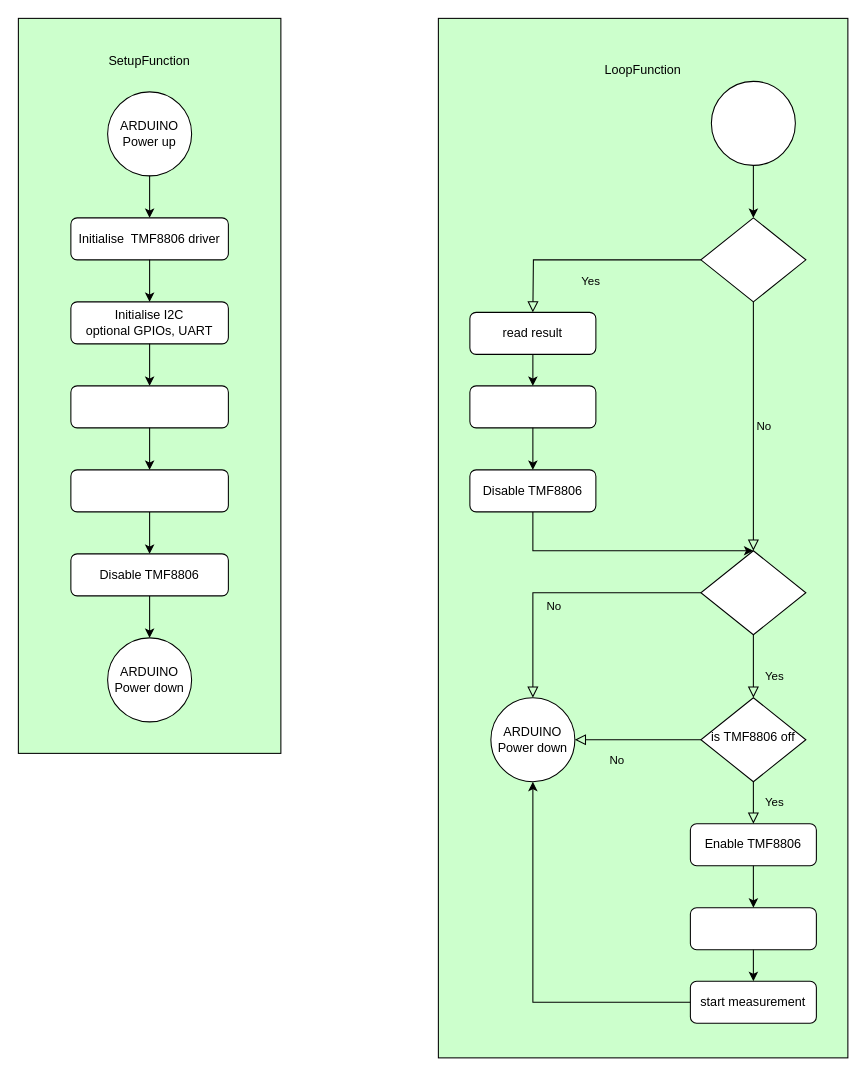
The diagram is 866 pixels wide and 1076 high, and some of its shapes have lost their labels. The box of each missing label's shape, as (x1, y1, x2, y2) in pixels:
"publish" result: (469, 385, 596, 428)
ARDUINO WakeUp due to Interrupt: (710, 80, 795, 165)
Configure TMF8806: (689, 907, 816, 950)
Configure Watchdog with PERIOD_OBJECT_IN_MS: (70, 469, 228, 512)
Enable TMF8806 to read out device info and version: (70, 385, 228, 428)
result Interrupt: (700, 217, 806, 302)
Watchdog Interrupt: (700, 550, 806, 635)
